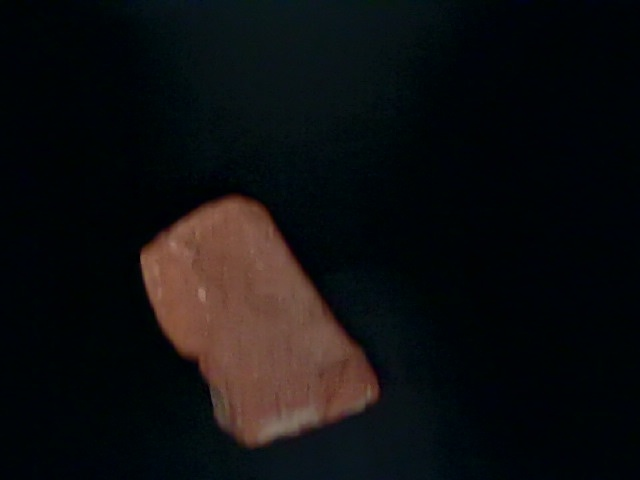KHSLJ: (133, 145, 639, 480)
